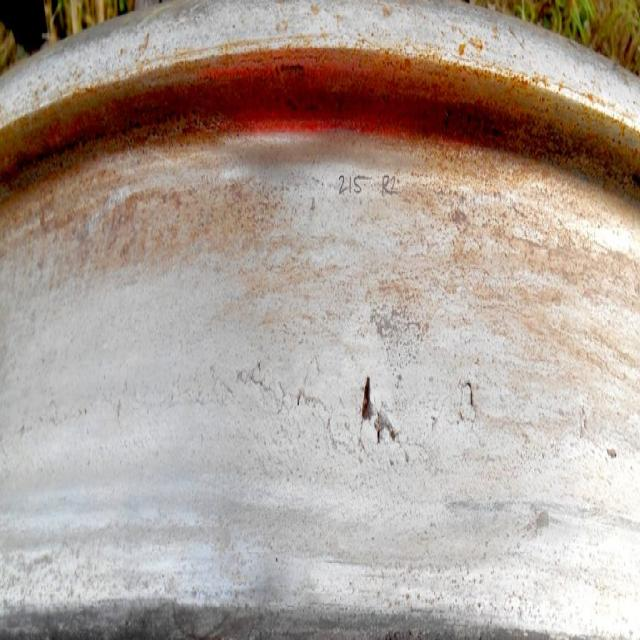Contact_Fatigue_Cracks: (99, 339, 526, 486)
